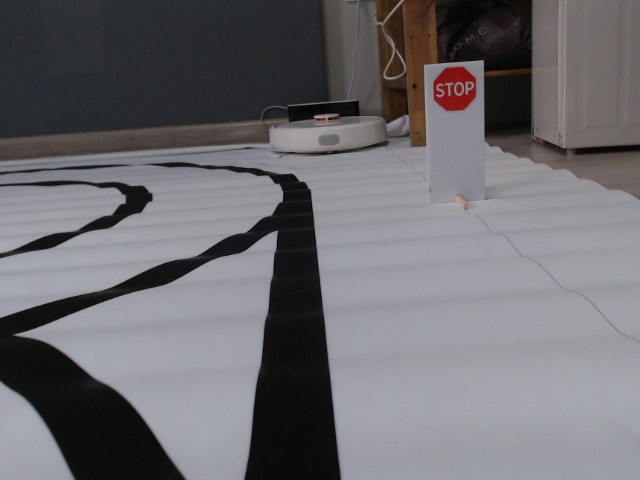Stop: (433, 64, 478, 113)
